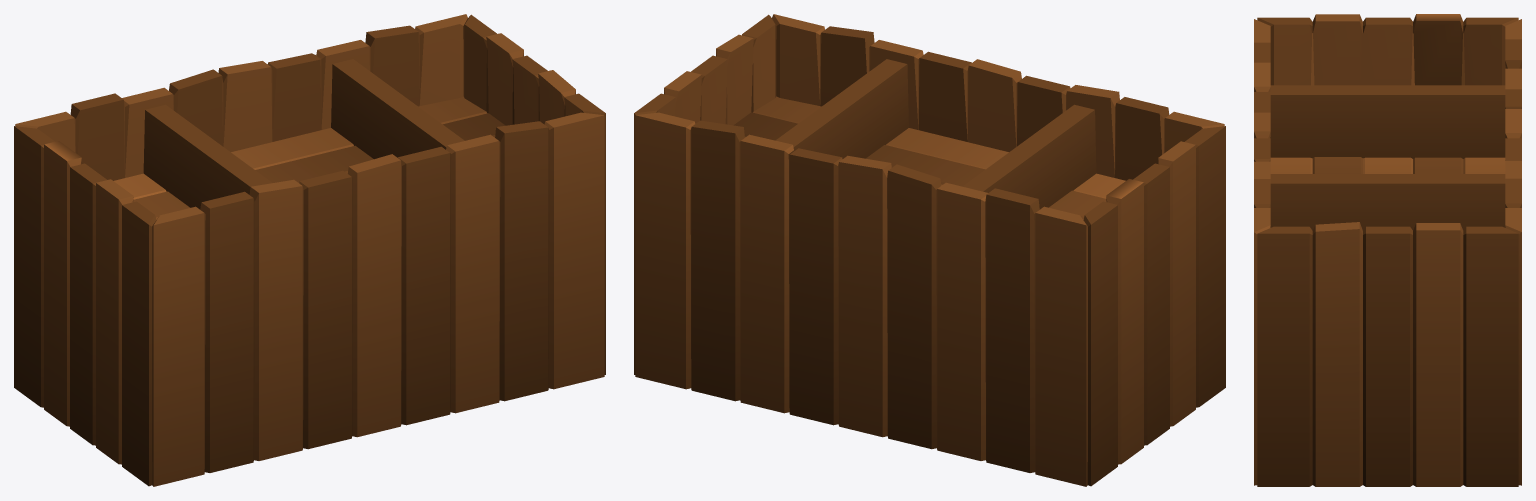
The model's file is Stall-0-2.fbx.
The picture shows the model from 3 angles, left to right: view 1: azimuth 30°, elevation 25°; view 2: azimuth 150°, elevation 25°; view 3: azimuth 270°, elevation 25°; orthographic projection. The views are drawn at different scales.
Visible parts, largest first — view 1: Stall-0-2; view 2: Stall-0-2; view 3: Stall-0-2.
Part boxes in pixels (x1=…): Stall-0-2: x1=14, y1=14, x2=605, y2=486; Stall-0-2: x1=634, y1=14, x2=1225, y2=486; Stall-0-2: x1=1254, y1=14, x2=1521, y2=486.
Size of the model in its own units: 262 by 147 by 137.
